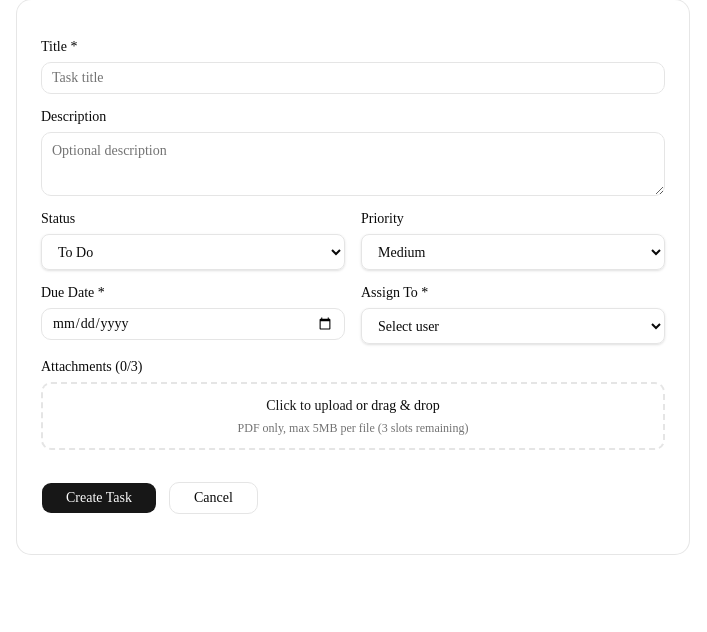
Test: TaskForm › displays error when submitting without required fields
Note: Submit empty form
Click the button "Create Task" at (99, 498), box [41,482,157,514]
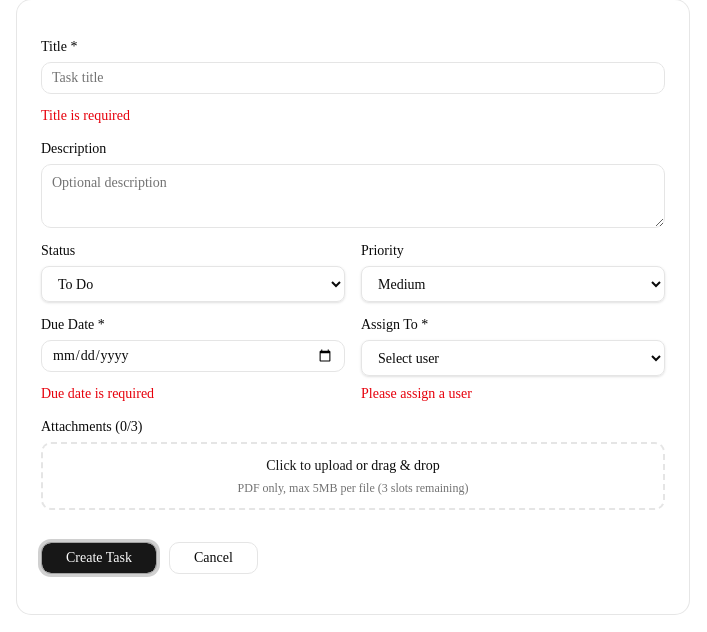
Result: the text "Title is required" is shown at [41,108,130,123]
